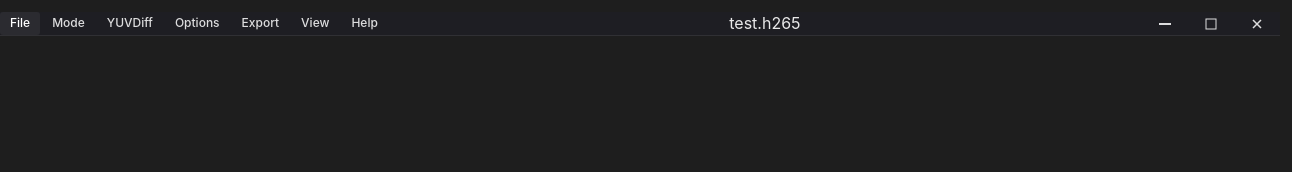
Test: TitleBar menu actions › should have Export options
The width and height of the screenshot is (1292, 172).
Hover over the text "Export" at (260, 24), box [242,15,279,32]
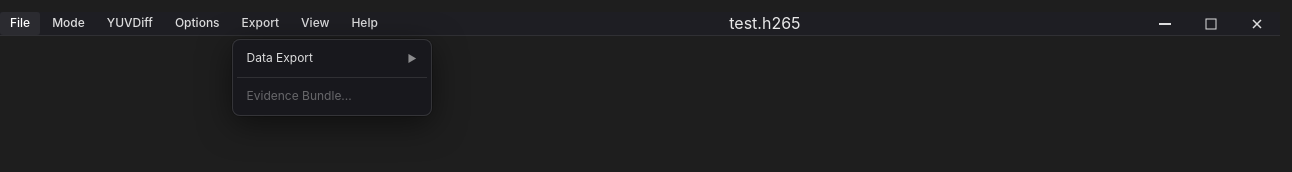
Now the text "Data Export" is shown, box [247,50,313,65]
